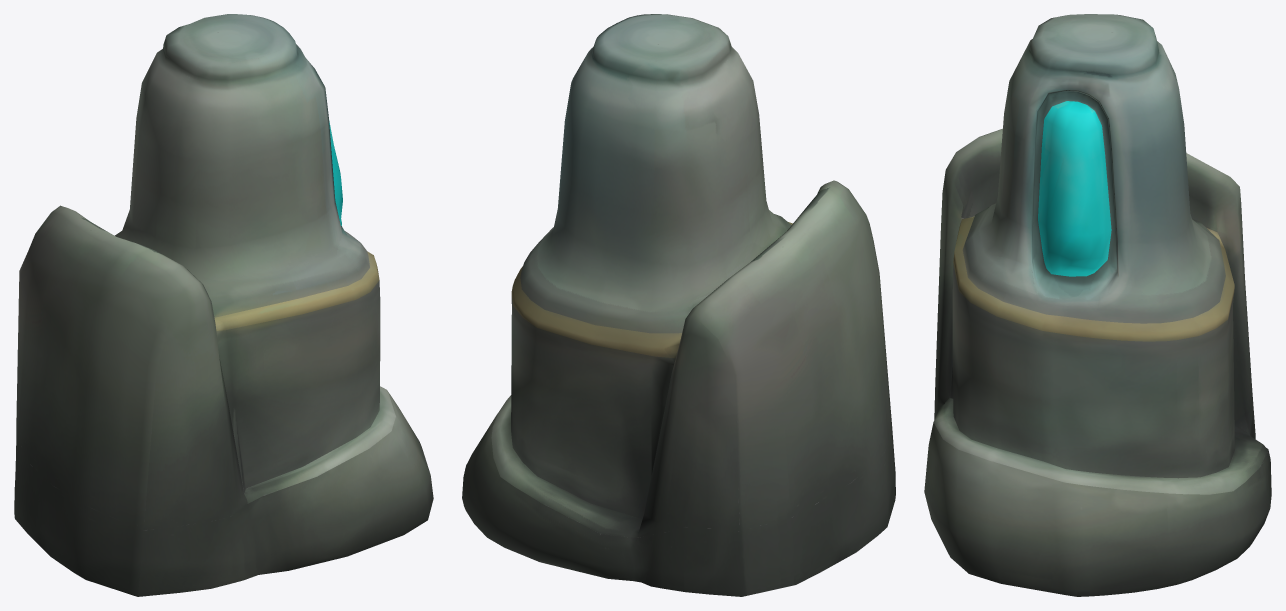
Rendered from wardcliff_rad.fbx.
3 renders of one model, left to right at view 1: azimuth 30°, elevation 25°; view 2: azimuth 150°, elevation 25°; view 3: azimuth 270°, elevation 25°, orthographic.
Visible parts, largest first — view 1: Cube.001; view 2: Cube.001; view 3: Cube.001.
Part boxes in pixels (left/top/right/bottom): Cube.001: left=14, top=14, right=433, bottom=596; Cube.001: left=462, top=14, right=895, bottom=596; Cube.001: left=924, top=14, right=1271, bottom=596.
Bounding box in the file's own units: 152 × 186 × 123.
